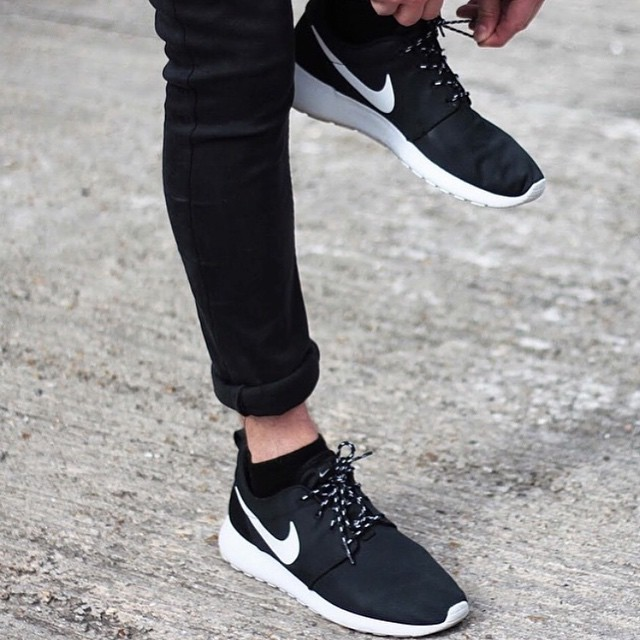sneaker: (204, 376, 487, 639), (269, 1, 555, 227)
